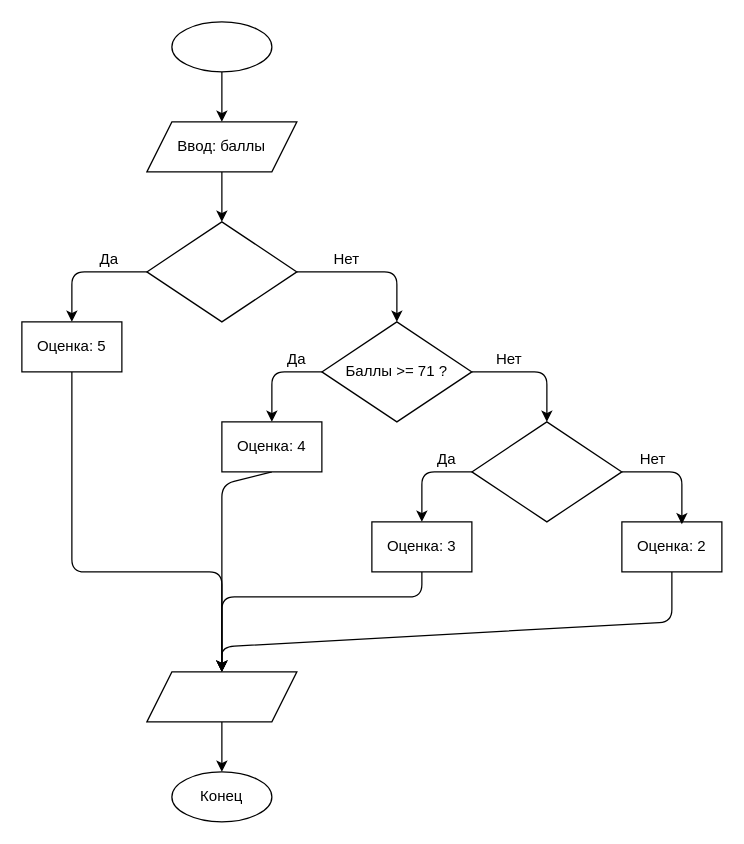
This 744x844 diagram has some shape labels left out. The box of each missing label's shape, as (x1, y1, x2, y2) in pixels:
Баллы >= 51 ?: (471, 421, 622, 522)
Баллы >= 91 ?: (146, 221, 297, 322)
Вывод: баллы: (146, 671, 297, 722)
Начало: (171, 21, 272, 72)
